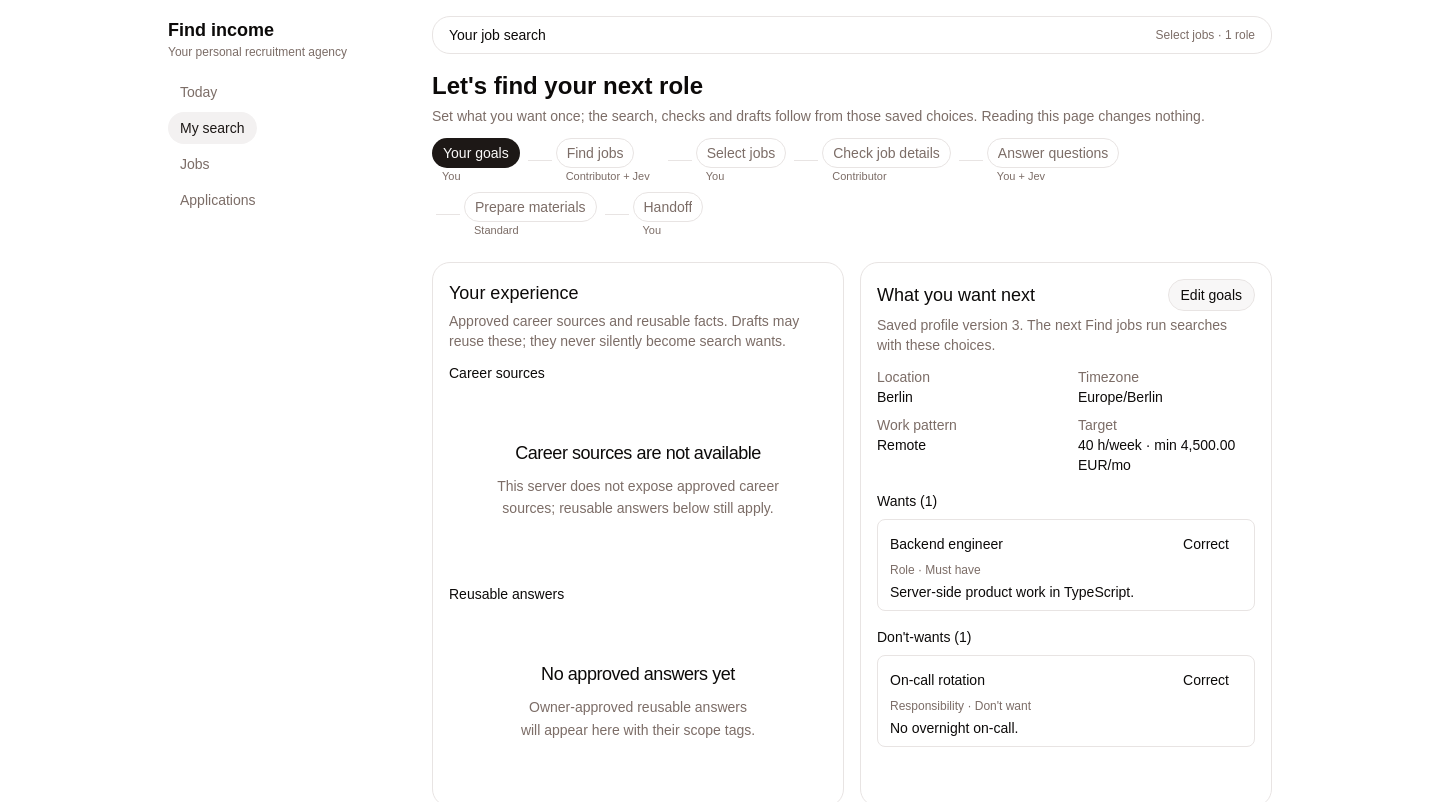
Test: goals form and experience (B2) › reports a concurrent change instead of overwriting
Step 1. Click the button "Edit goals" → (1211, 294), box [1168,278,1255,310]
(page scrolled)
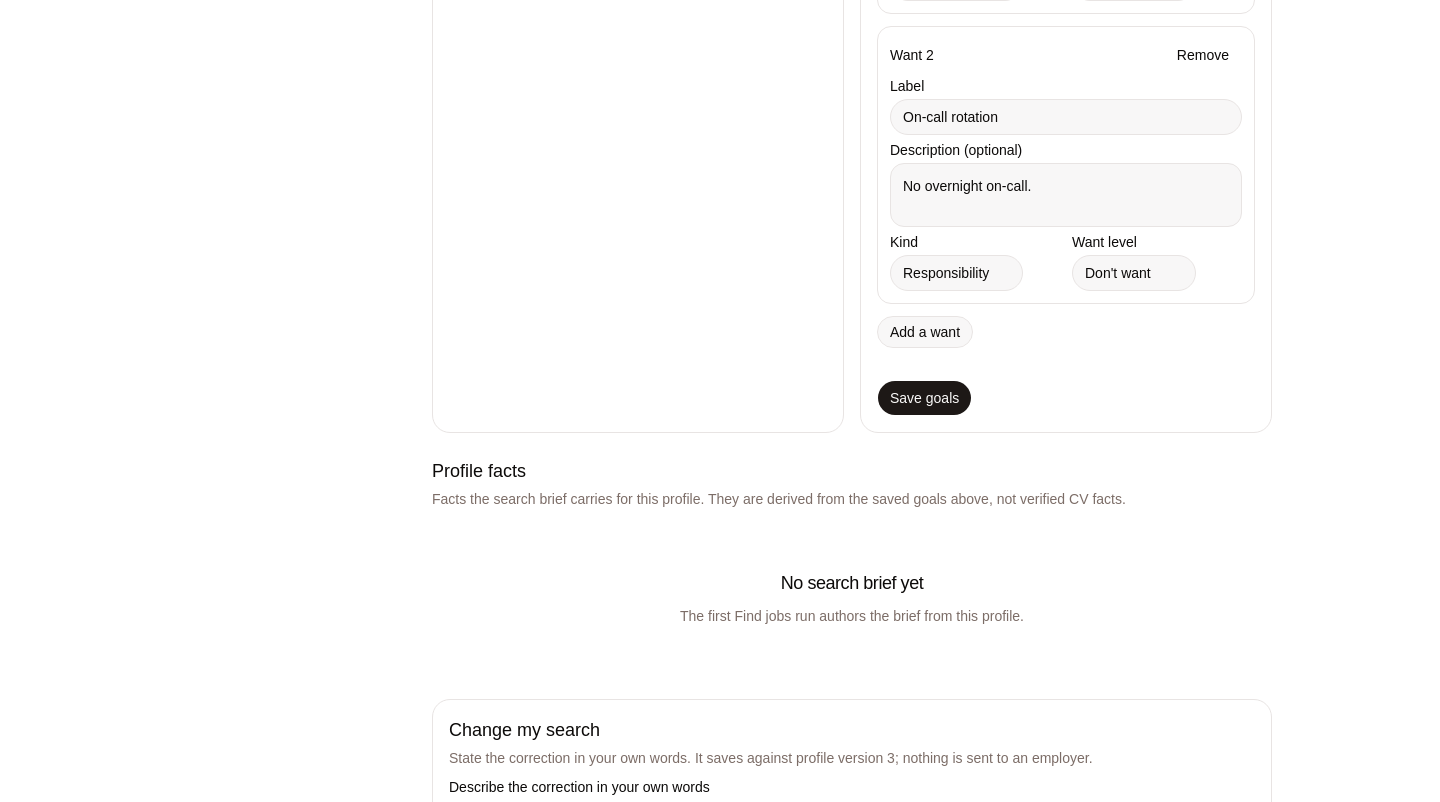
Step 2. Click the button "Save goals" → (925, 398), box [877,380,972,416]
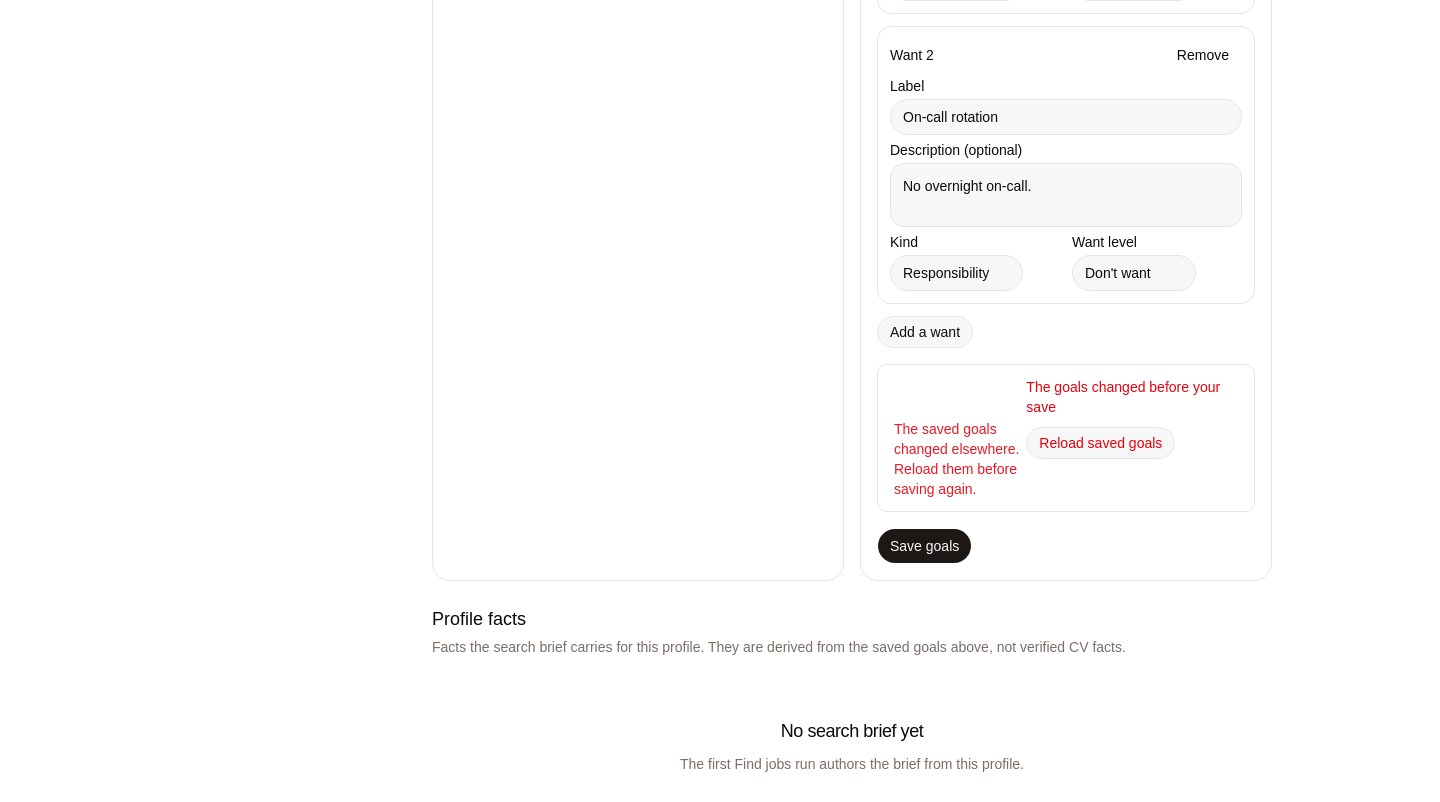
Expected: the text "The goals changed before your save" is shown, [1026,376,1238,416]
